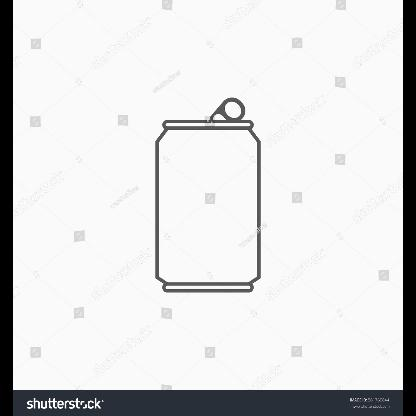Lid_Open: (194, 92, 252, 130)
Tin_Can: (146, 89, 276, 300)
